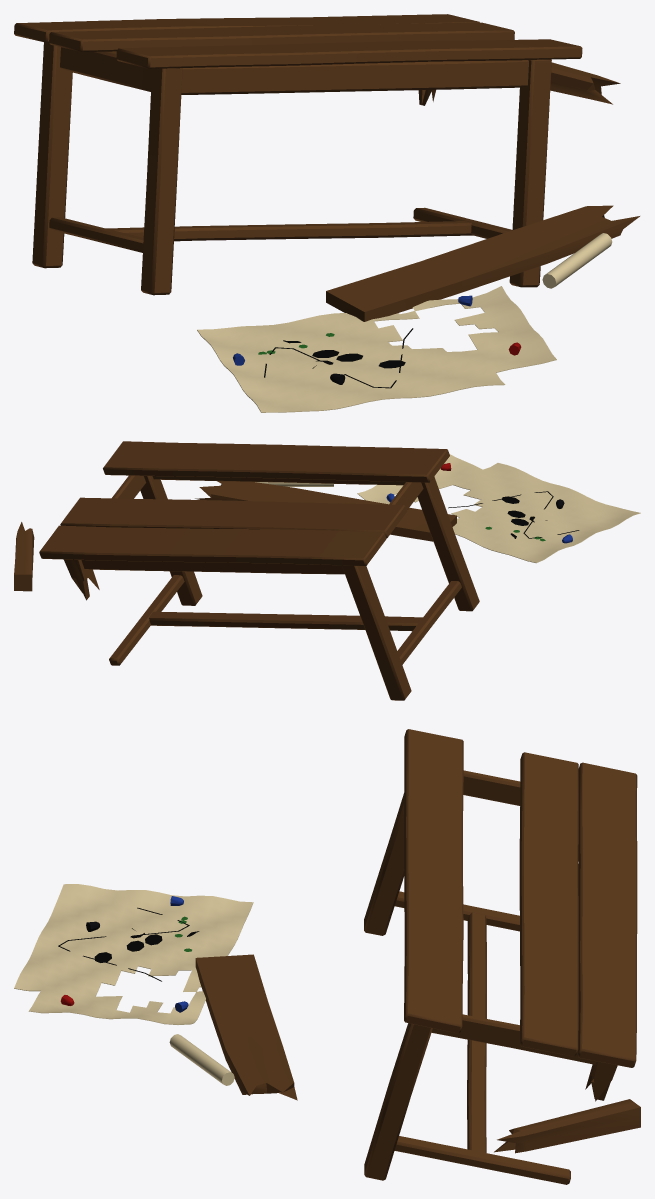
Rendered from kartentisch_kaputt.glb.
3 renders of one model, top to bottom at view 1: azimuth 30°, elevation 25°; view 2: azimuth 150°, elevation 25°; view 3: azimuth 270°, elevation 25°, orthographic. The views are drawn at different scales.
Parts seen in each view (by area): view 1: kartentisch_kaputt; view 2: kartentisch_kaputt; view 3: kartentisch_kaputt.
Part boxes in pixels (left/top/right/bottom): kartentisch_kaputt: left=14, top=14, right=639, bottom=412; kartentisch_kaputt: left=14, top=441, right=640, bottom=700; kartentisch_kaputt: left=14, top=729, right=640, bottom=1184.
Bounding box in the file's own units: 2.13 × 1.08 × 2.1.
